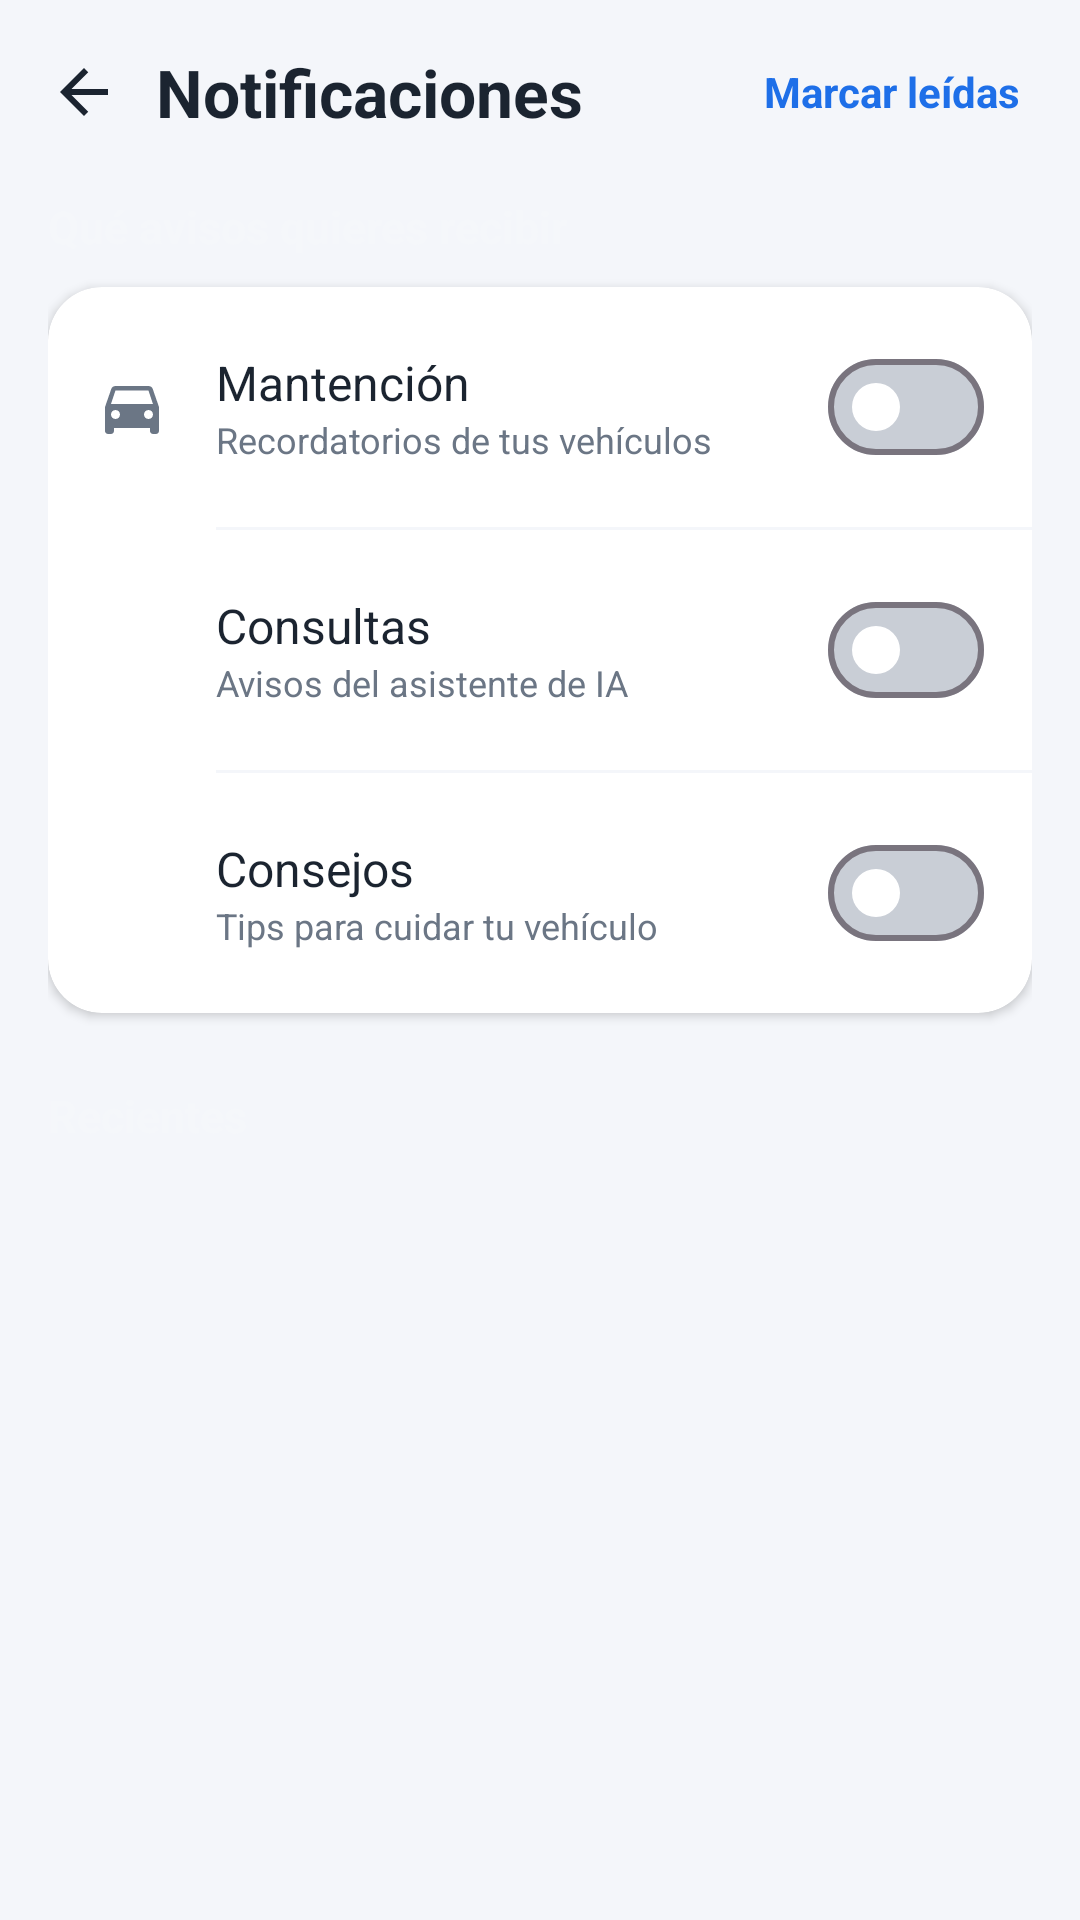

Point at icon controls on the screen. Image size 1080*1920, points as (x=x, y=y).
perfil auto: (x=132, y=410)
Volver: (x=84, y=92)
